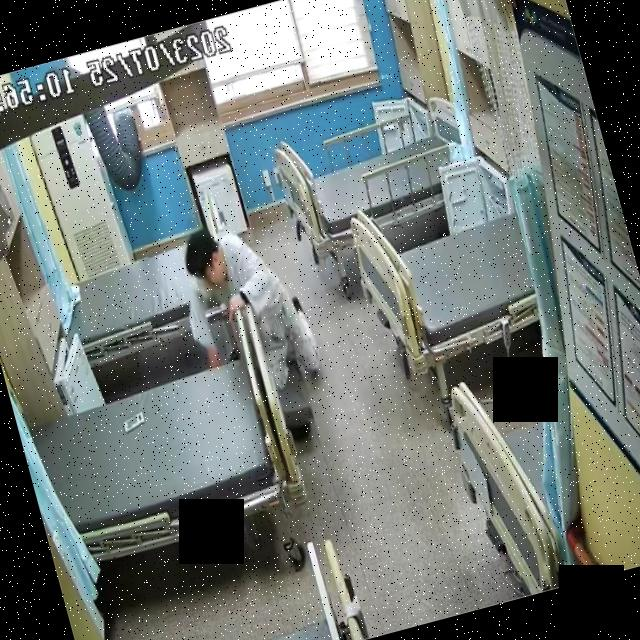bed: (21, 347, 292, 576), (339, 170, 552, 385), (272, 92, 482, 257), (44, 206, 250, 370)
fall: (167, 208, 324, 404)
patient: (168, 208, 324, 406)
